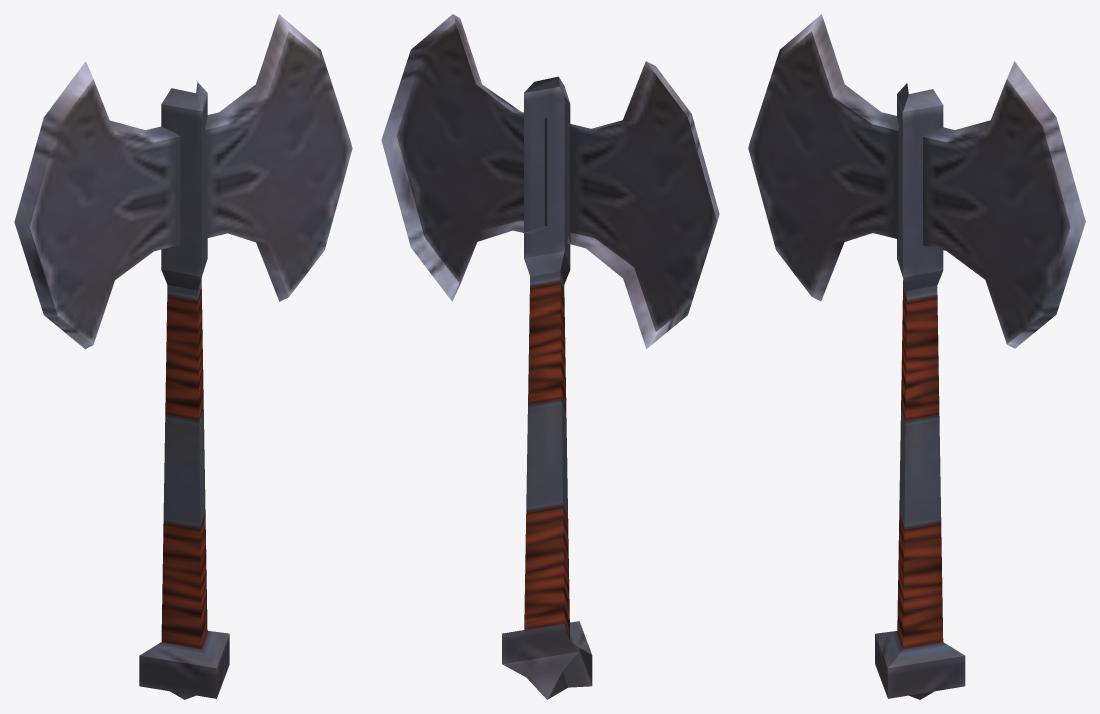
File: axe.FBX
The picture shows the model from 3 angles, left to right: view 1: azimuth 30°, elevation 25°; view 2: azimuth 150°, elevation 25°; view 3: azimuth 330°, elevation 25°; orthographic projection.
Visible parts, largest first — view 1: axe; view 2: axe; view 3: axe.
Boxes of the visible parts, <box> form: axe: <box>14,14,352,699</box>; axe: <box>381,14,719,699</box>; axe: <box>748,14,1085,699</box>.
Bounding box in the file's own units: 18.07 × 34.08 × 3.01.
